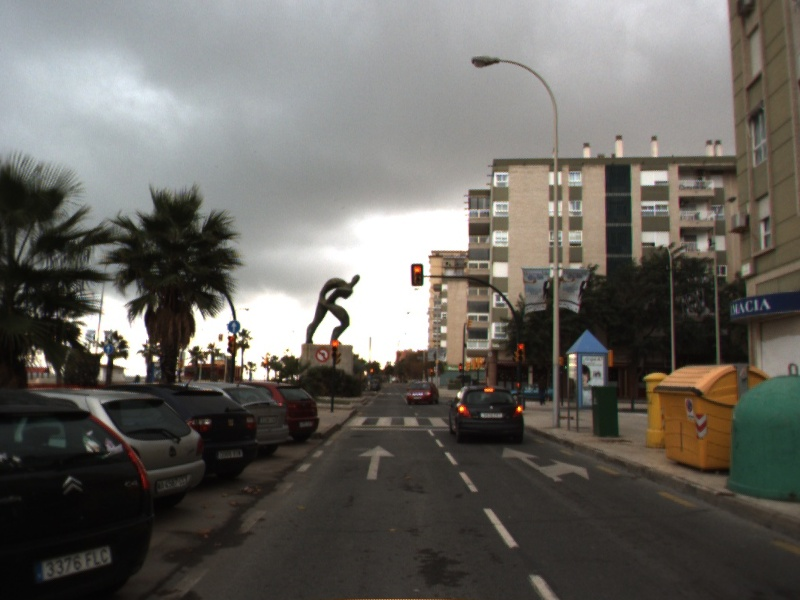STRAIGHT: (356, 443, 397, 481)
STRAIGHT_RIGHT: (500, 445, 591, 483)
